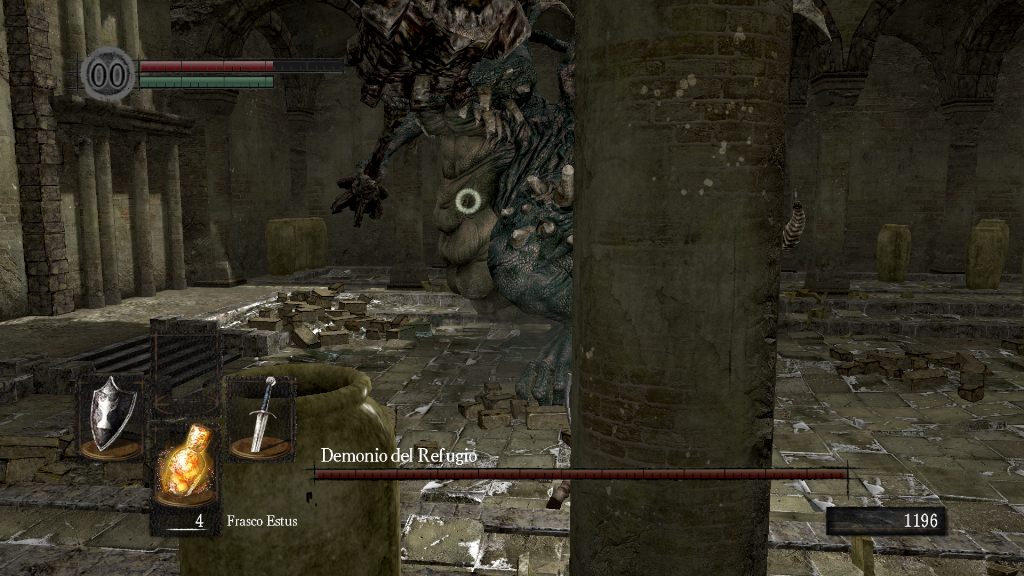asylumDemon: (325, 3, 580, 422)
bossHP: (314, 469, 847, 479)
health: (138, 58, 343, 71)
humanity: (80, 45, 136, 102)
souls: (825, 506, 945, 536)
stamina: (138, 74, 274, 88)
